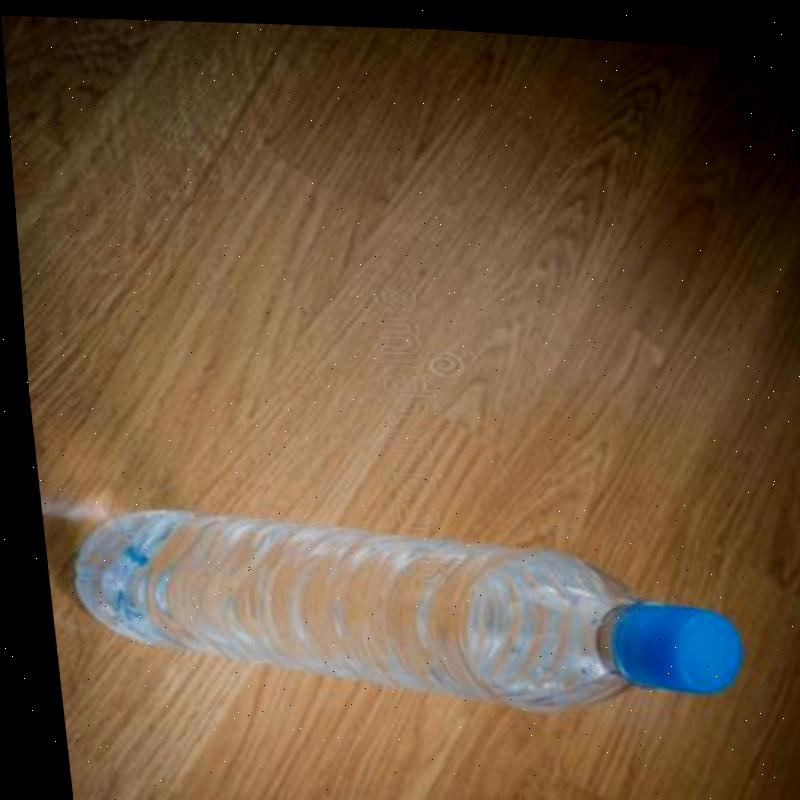botella: (58, 484, 739, 732)
